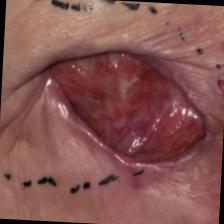pressure-wound: (26, 13, 224, 201)
